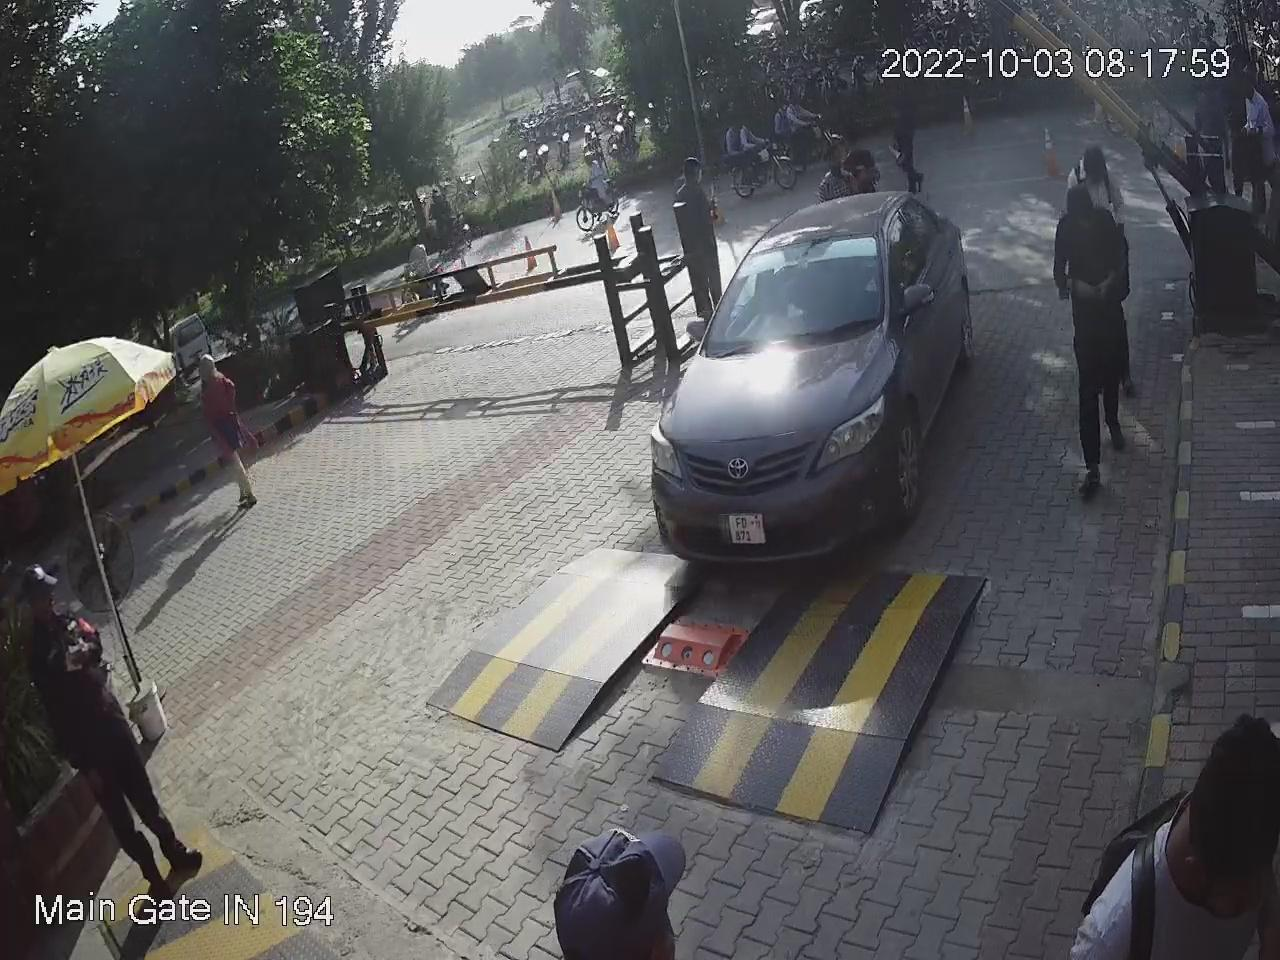windshield: (693, 233, 885, 365)
